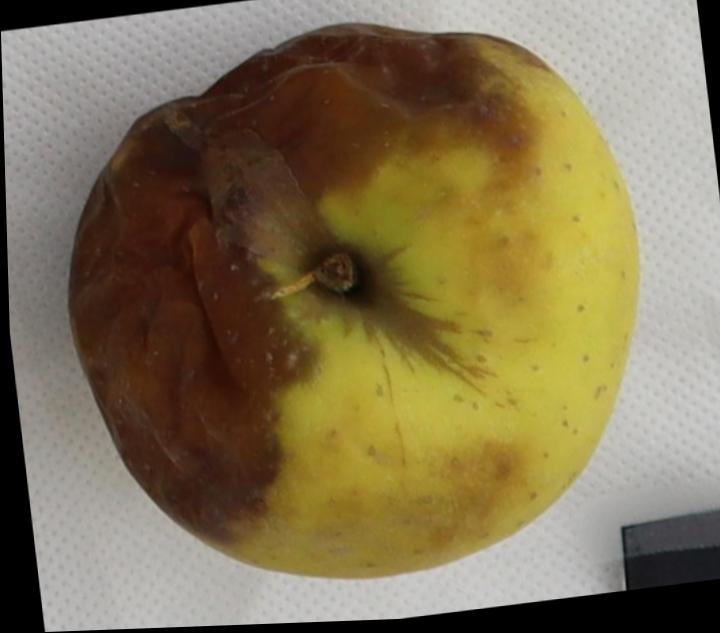apple: (69, 24, 639, 578)
bruise_discoloration: (313, 242, 495, 393)
rot_mold_decay: (69, 23, 530, 542)
